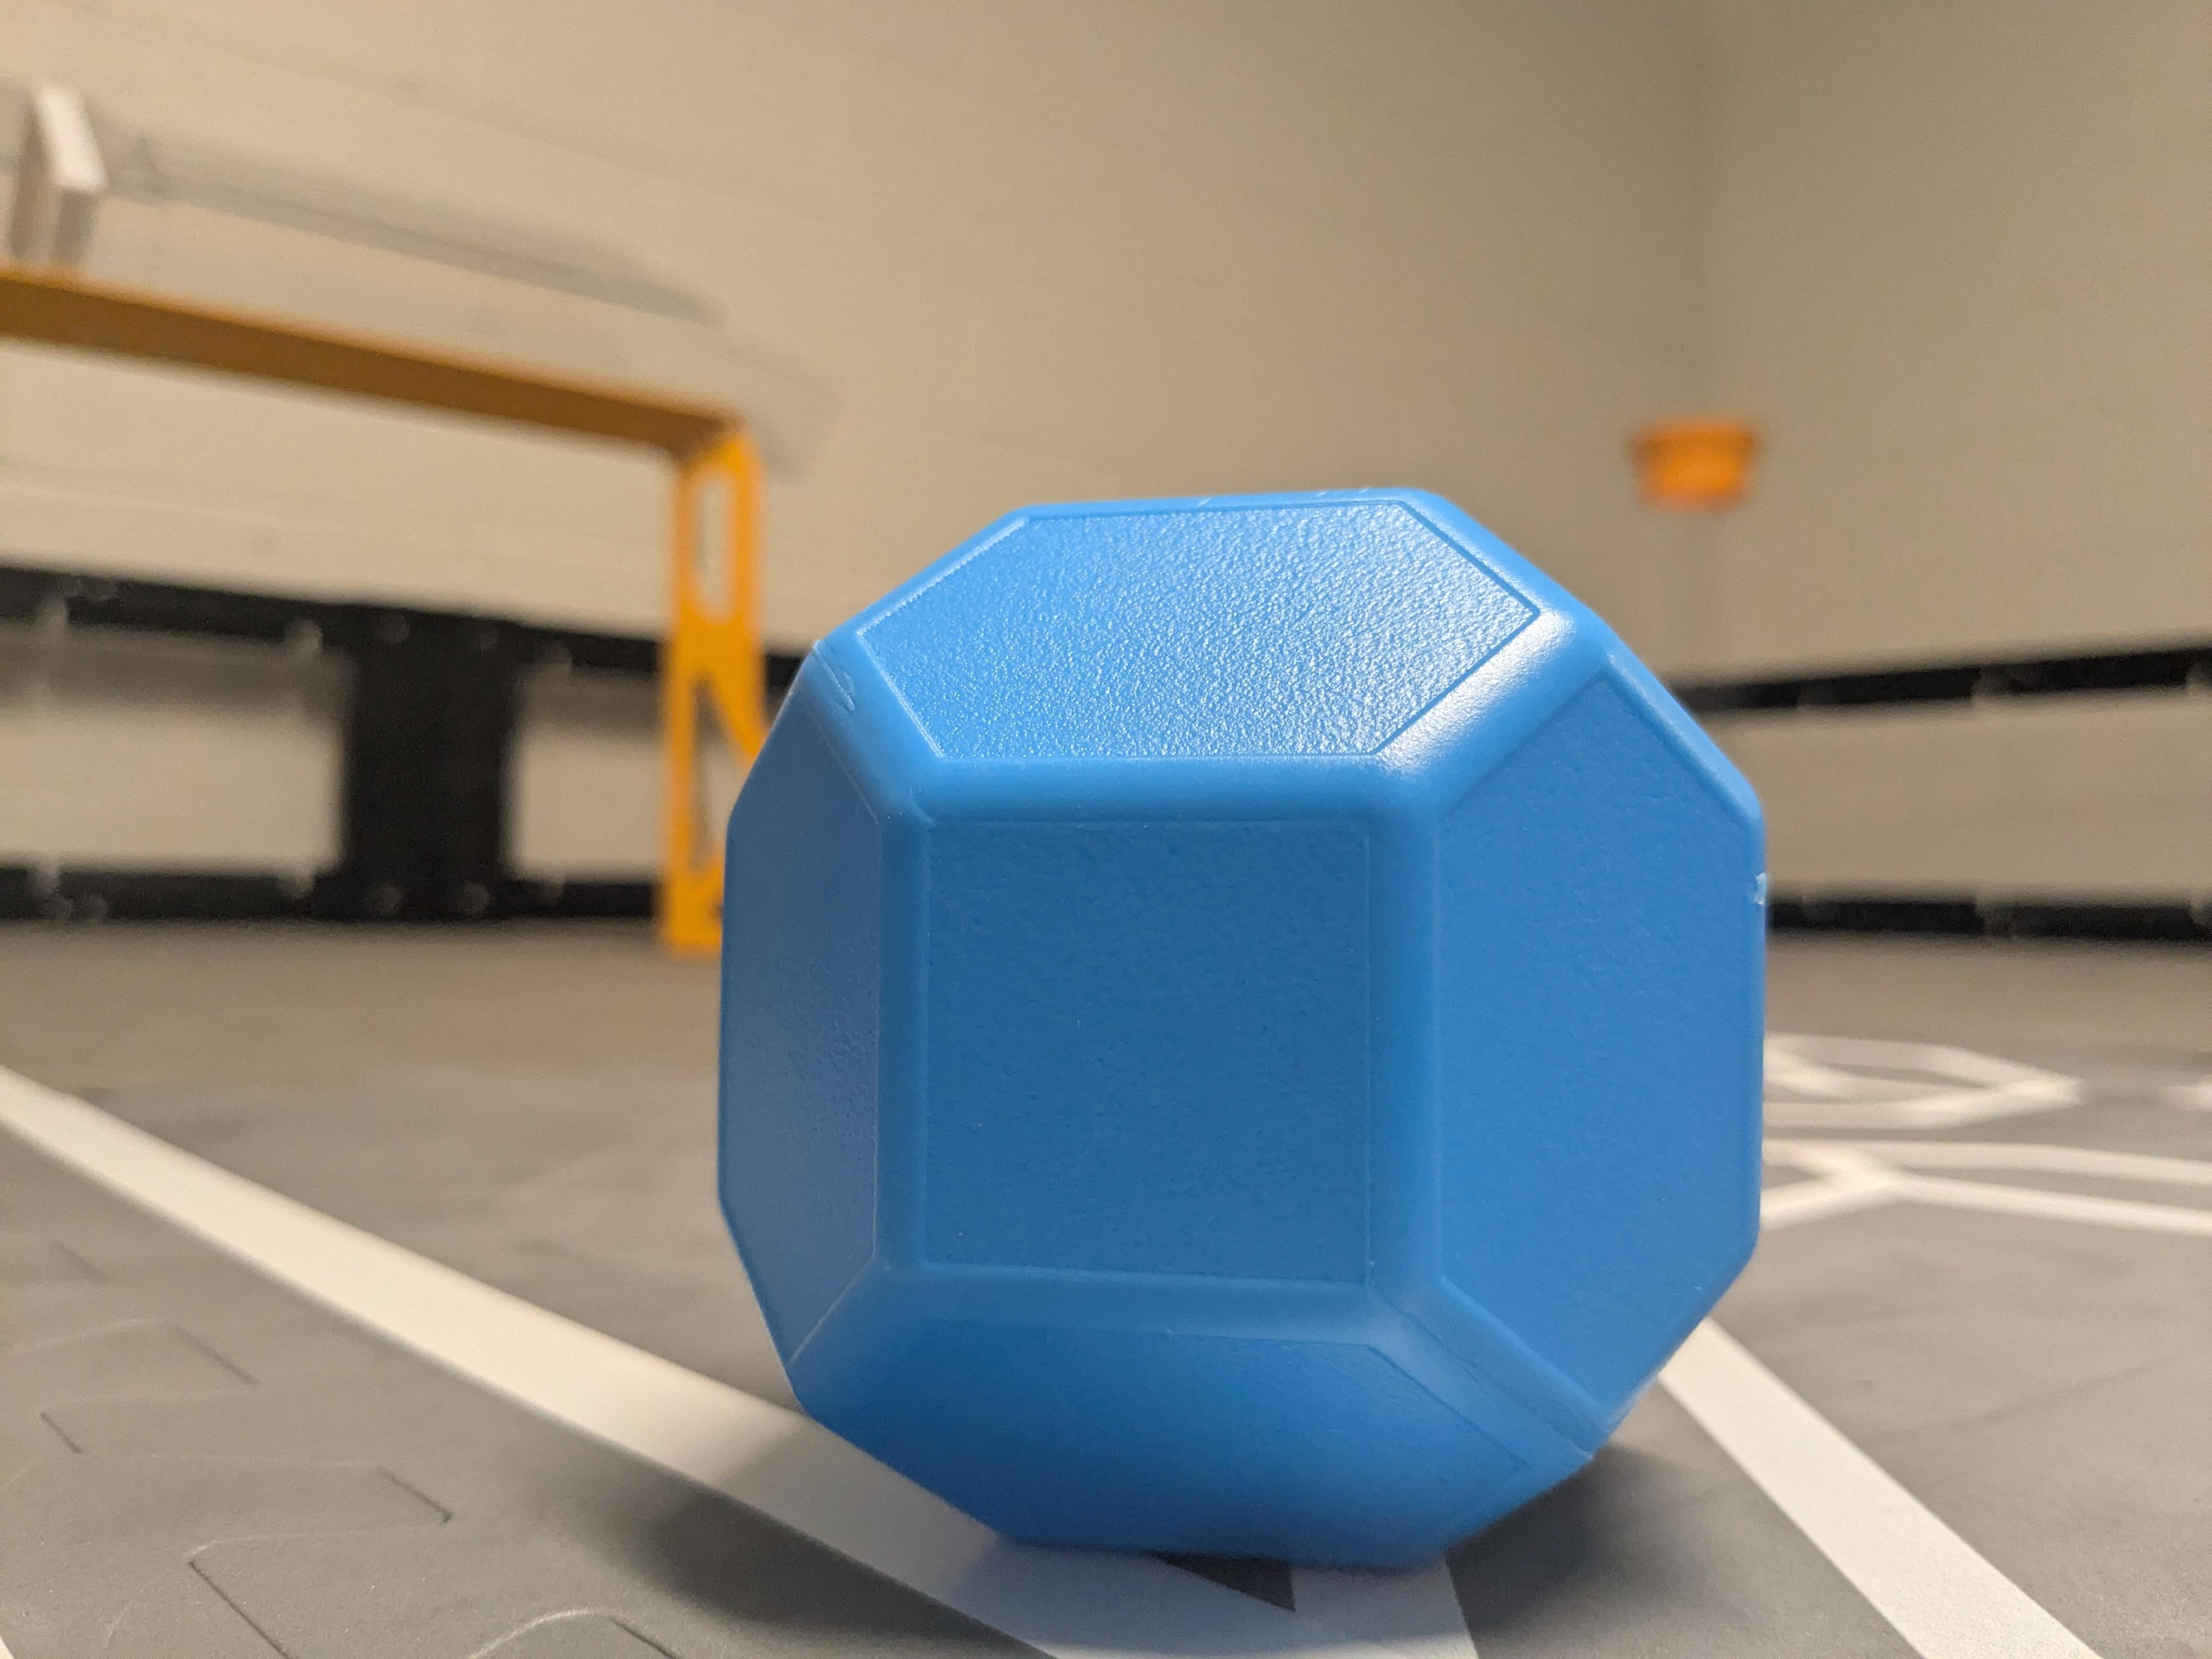Vex-Pieces-BLUE: (719, 490, 1764, 1567)
